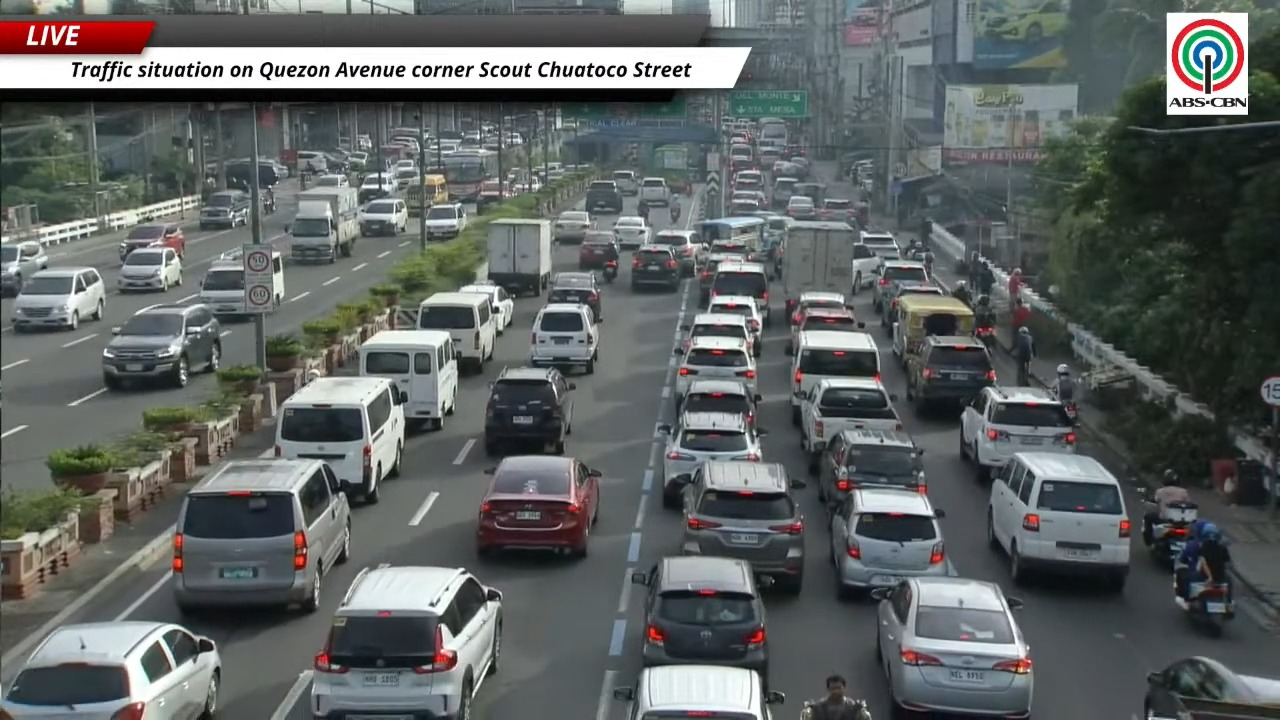bus: (696, 217, 766, 258), (443, 150, 498, 202)
car: (309, 566, 502, 719), (170, 459, 350, 614), (872, 578, 1032, 717), (0, 621, 221, 719), (985, 451, 1131, 592), (631, 556, 768, 677), (681, 460, 804, 594), (830, 487, 950, 596), (476, 455, 601, 556), (959, 385, 1075, 478), (658, 407, 765, 507), (102, 303, 221, 389), (800, 378, 902, 472), (613, 664, 784, 719), (790, 330, 880, 426), (817, 429, 926, 507), (1143, 656, 1279, 717), (483, 367, 575, 456), (906, 335, 996, 408), (12, 267, 105, 332), (676, 336, 757, 401), (530, 303, 600, 374), (710, 259, 771, 327), (981, 0, 1066, 46), (785, 307, 864, 354), (675, 312, 758, 356), (678, 380, 760, 424), (706, 295, 762, 357), (880, 282, 946, 331), (117, 247, 182, 293), (873, 259, 929, 312), (457, 283, 513, 334), (547, 271, 602, 322), (0, 240, 49, 296), (649, 229, 704, 276), (698, 248, 741, 305), (118, 223, 184, 260), (630, 245, 681, 291), (785, 291, 847, 326), (199, 189, 250, 229), (358, 198, 407, 236), (852, 242, 882, 294), (578, 231, 619, 269), (425, 203, 468, 239), (584, 179, 622, 213), (553, 210, 593, 242), (771, 162, 798, 209), (613, 216, 651, 249), (859, 230, 901, 258), (358, 172, 396, 202), (793, 182, 825, 213), (639, 177, 669, 206), (819, 199, 856, 222), (785, 196, 817, 219), (730, 189, 765, 208), (613, 170, 638, 195), (733, 170, 763, 190), (729, 199, 761, 215), (314, 175, 348, 186)
motorcycle: (1147, 502, 1197, 569), (1181, 581, 1234, 637), (1051, 382, 1079, 425), (973, 325, 995, 350), (1062, 400, 1079, 425), (800, 701, 819, 719), (603, 261, 617, 282), (262, 195, 275, 214), (670, 205, 680, 223)
truck: (781, 221, 857, 316), (286, 186, 359, 262), (487, 219, 552, 295), (198, 248, 253, 318)
